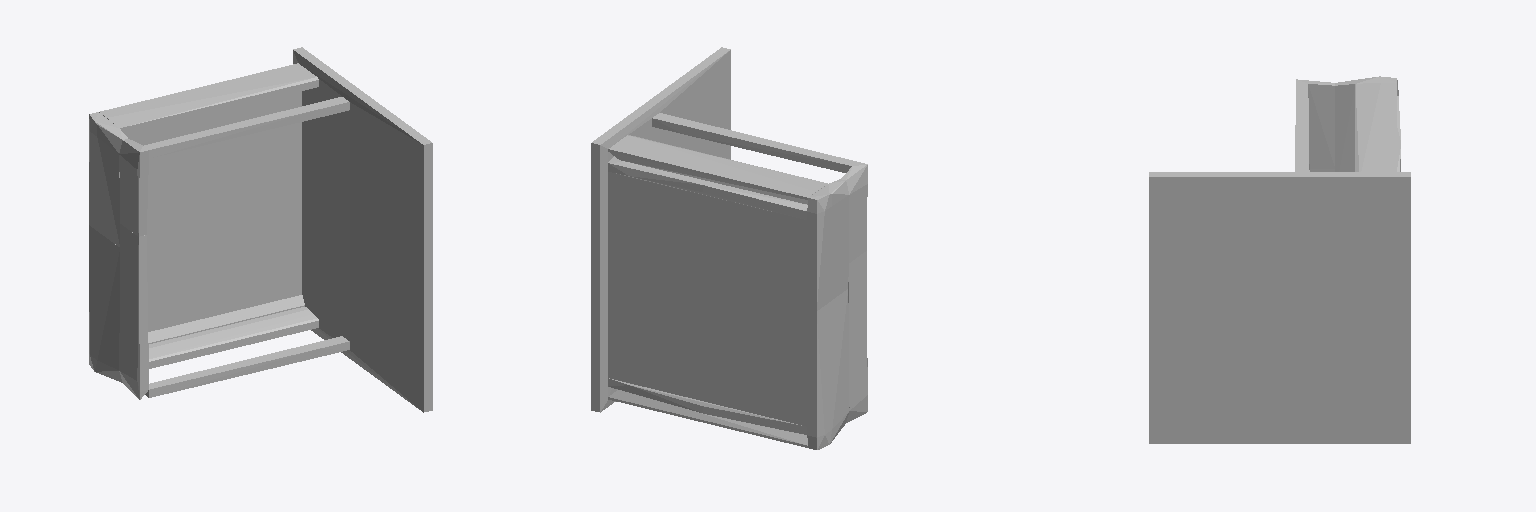
File: IAIDrawerW60H53.obj
The picture shows the model from 3 angles: view 1: azimuth 30°, elevation 25°; view 2: azimuth 150°, elevation 25°; view 3: azimuth 270°, elevation 25°; orthographic projection.
Visible parts, largest first — view 1: convex_0, convex_7, convex_8, convex_3, convex_1, convex_9, convex_2, convex_5, convex_6, convex_4, convex_11; view 2: convex_7, convex_0, convex_1, convex_8, convex_2, convex_6, convex_3, convex_10, convex_9, convex_11, convex_4; view 3: convex_0, convex_8, convex_4, convex_2, convex_6.
Part boxes in pixels (x1,y1,x2,y2): convex_0: (293,47,432,412); convex_7: (125,91,301,331); convex_8: (99,63,318,133); convex_3: (119,224,148,399); convex_1: (89,225,122,382); convex_9: (149,307,318,368); convex_2: (89,112,127,246); convex_5: (145,336,349,397); convex_6: (144,97,349,158); convex_4: (119,139,148,236); convex_11: (148,295,304,343); convex_7: (608,172,806,426); convex_0: (591,47,730,412); convex_1: (807,289,849,449); convex_8: (608,135,827,204); convex_2: (807,179,849,311); convex_6: (652,113,857,172); convex_3: (846,251,867,422); convex_10: (608,156,807,219); convex_9: (608,388,807,447); convex_11: (608,378,806,434); convex_4: (841,162,867,262); convex_0: (1149,172,1410,443); convex_8: (1355,83,1396,171); convex_4: (1296,79,1334,168); convex_2: (1335,76,1398,171); convex_6: (1295,84,1309,171).
Size of the model in its own units: 0.5231 by 0.5997 by 0.5313.